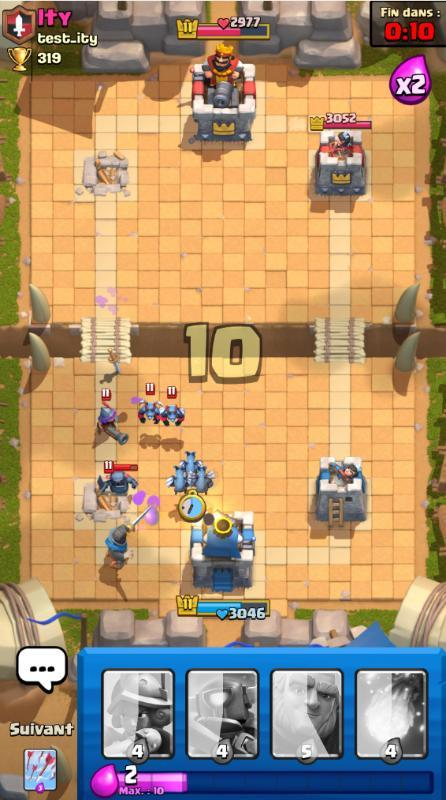chevalier: (105, 505, 153, 570)
gargouille: (137, 383, 163, 425), (161, 386, 186, 426), (188, 464, 216, 496), (166, 465, 193, 496), (180, 451, 203, 476)
mini_PEKKA: (97, 461, 140, 497)
mousquetaire: (97, 388, 129, 444)
